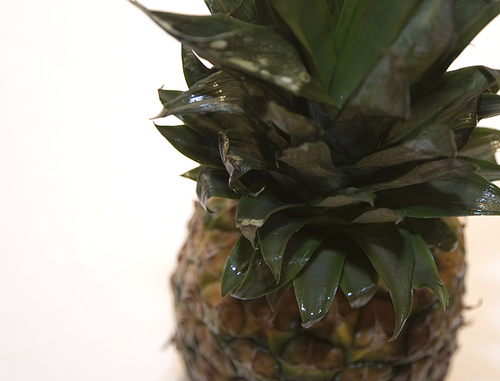pineapple: (125, 0, 499, 380)
